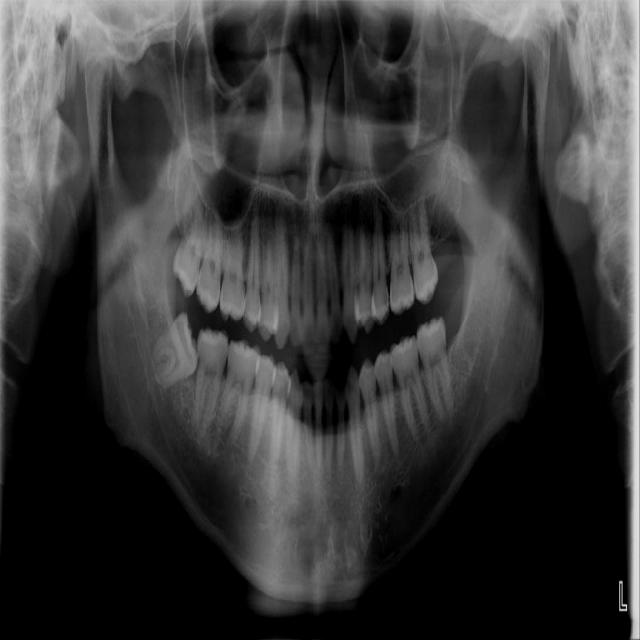impacted tooth: (148, 313, 197, 385)
